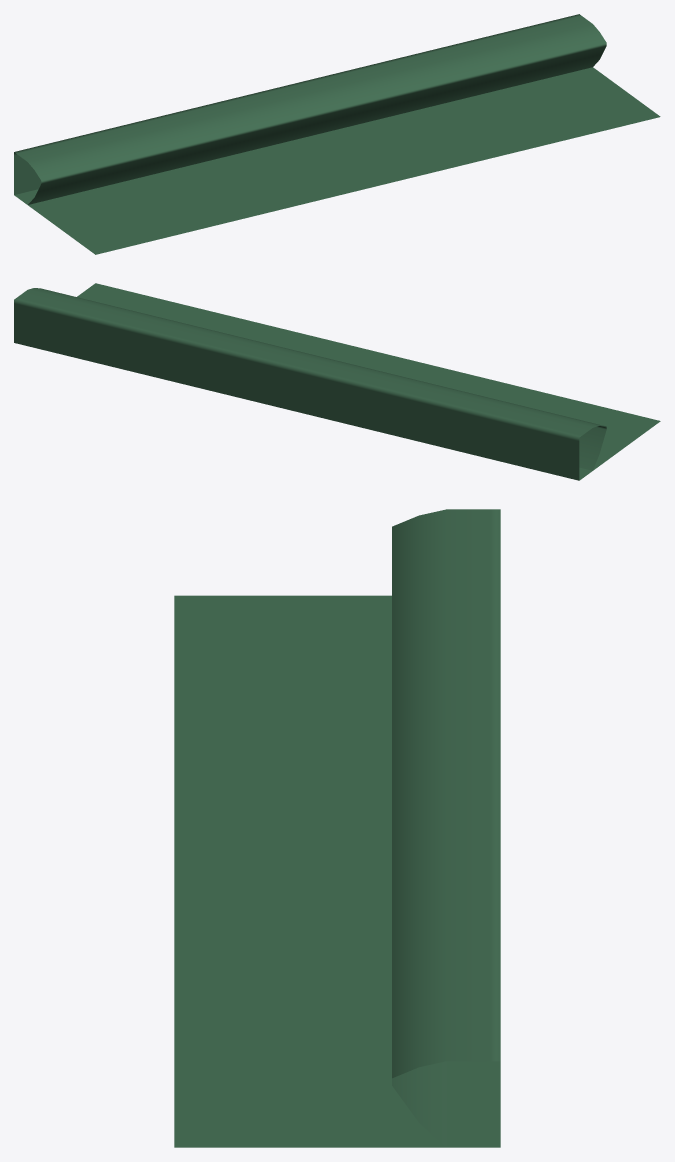
File: table_cushion_straight_c.fbx
3 views of the same model, one above another, from view 1: azimuth 30°, elevation 25°; view 2: azimuth 150°, elevation 25°; view 3: azimuth 270°, elevation 25° (orthographic). The views are drawn at different scales.
Parts seen in each view (by area): view 1: lod0; view 2: lod0; view 3: lod0.
Boxes of the visible parts, box(x1,y1,x2,y2) form: lod0: box(14, 14, 660, 254); lod0: box(14, 283, 660, 480); lod0: box(174, 509, 500, 1147).
Bounding box in the file's own units: 24 × 1.75 × 6.
